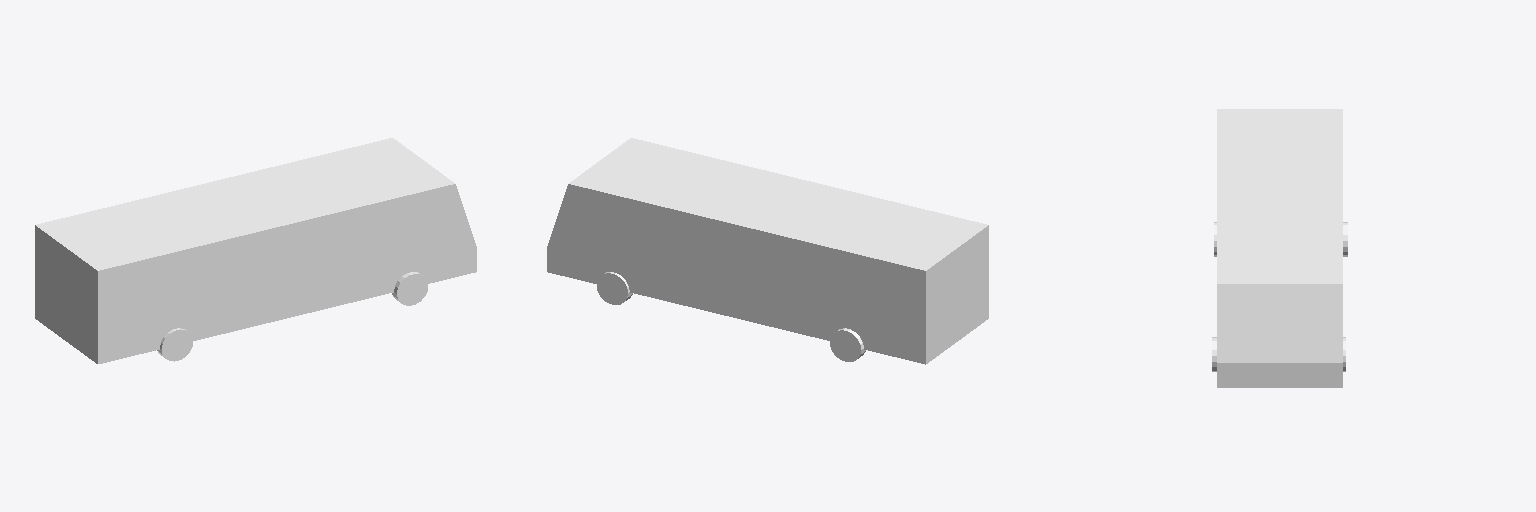
Rendered from Car12.obj.
3 renders of one model, left to right at view 1: azimuth 30°, elevation 25°; view 2: azimuth 150°, elevation 25°; view 3: azimuth 270°, elevation 25°, orthographic.
Parts seen in each view (by area): view 1: Car_12; view 2: Car_12; view 3: Car_12.
Boxes of the visible parts, box(x1,y1,x2,y2) form: Car_12: box(35, 138, 476, 363); Car_12: box(547, 138, 988, 364); Car_12: box(1212, 109, 1347, 387).
Bounding box in the file's own units: 181 × 49.35 × 56.34.